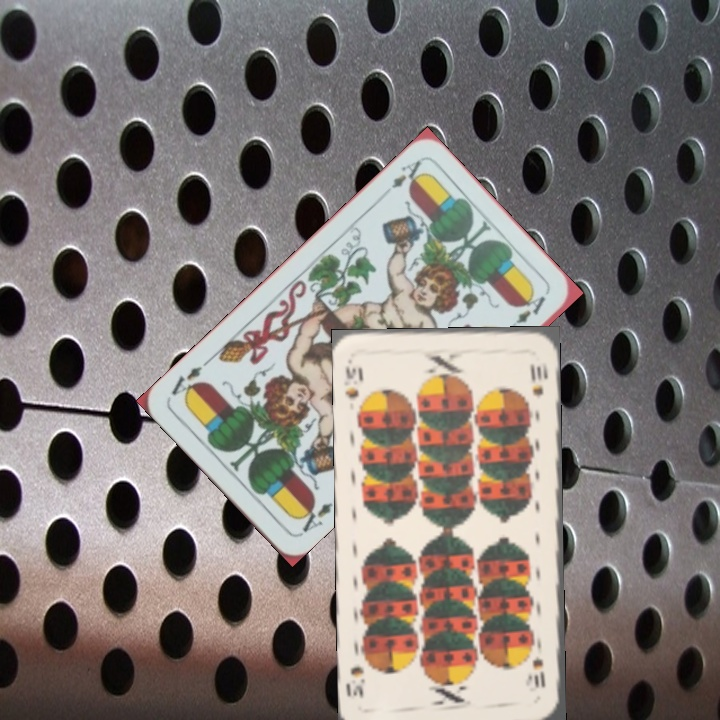EA: (293, 497, 336, 538), (387, 155, 427, 192)
S10: (340, 362, 366, 401), (530, 652, 548, 690)
